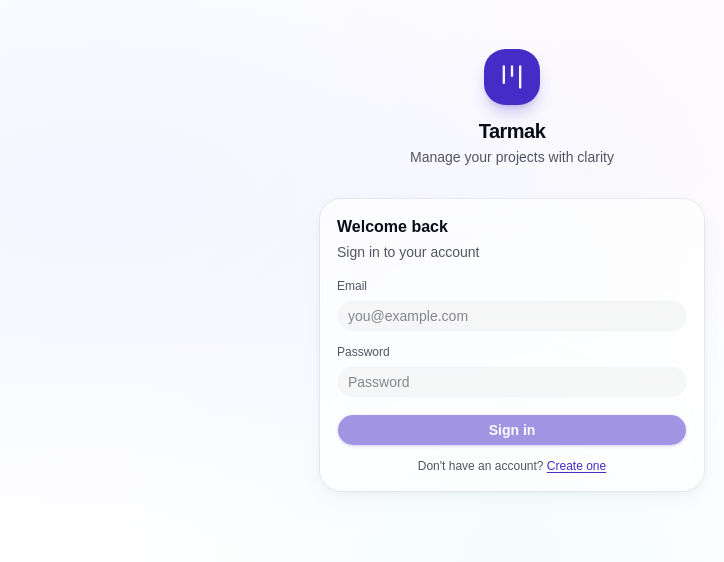
LoginPage › toggles back to login form
What coordinates should you click on to do the following:
click the button "Create one"
I would click on:
 (576, 466)
Its box is top-left (547, 458), bottom-right (606, 474).
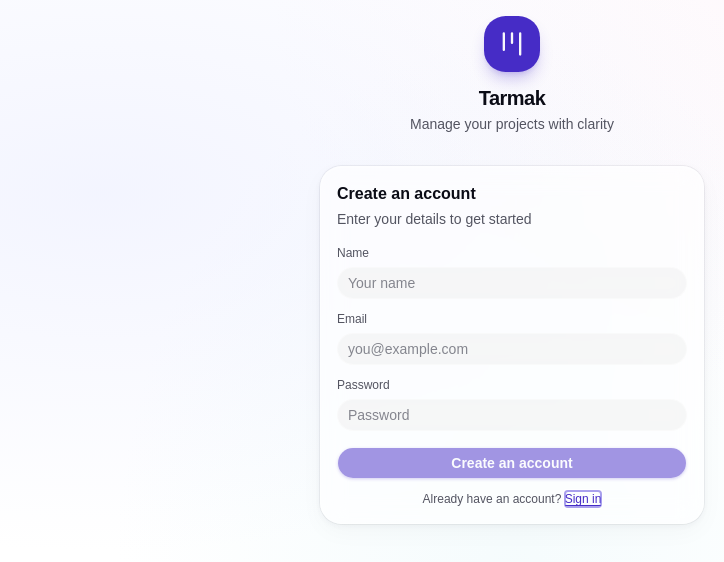
What coordinates should you click on to do the following:
click the button "Sign in"
I would click on:
 (583, 499)
Its box is top-left (565, 491), bottom-right (601, 507).
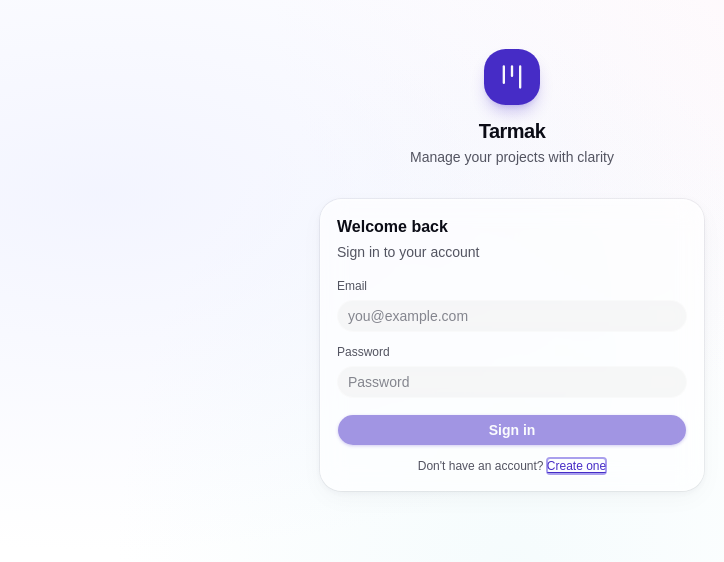
Result: the text "Welcome back" is shown at top-left (337, 218), bottom-right (448, 235)
